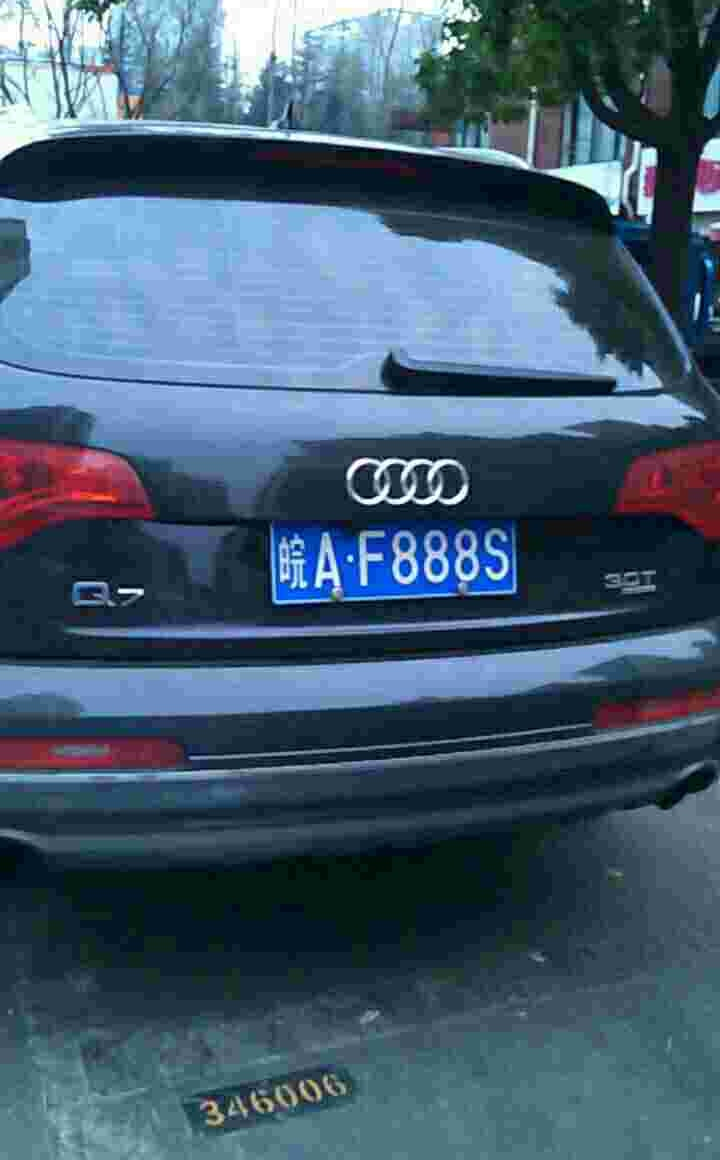license_plate: (257, 520, 528, 605)
